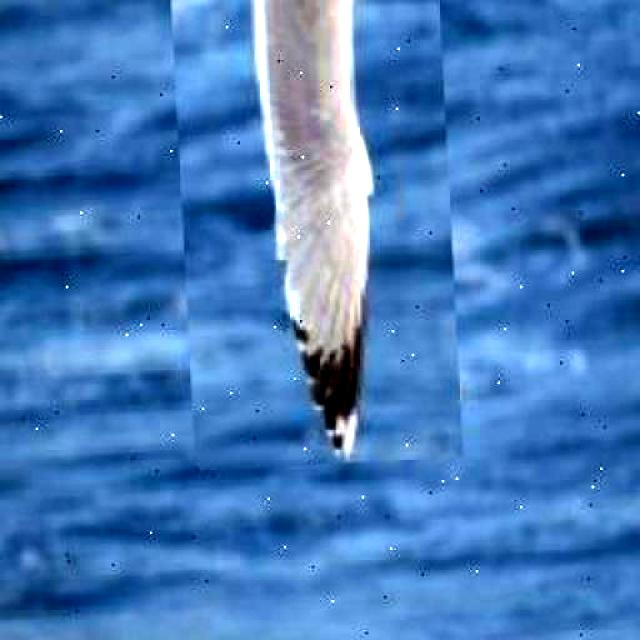airplane: (161, 0, 465, 471)
